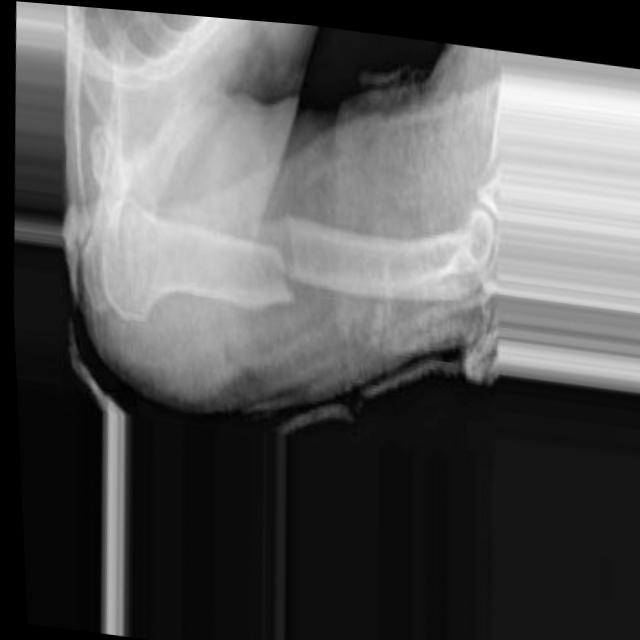fracture: (265, 194, 309, 314)
